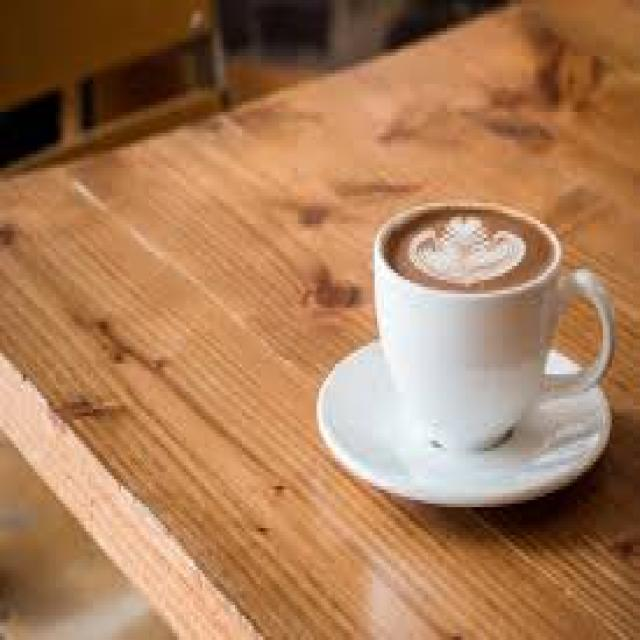taza: (366, 180, 618, 468)
